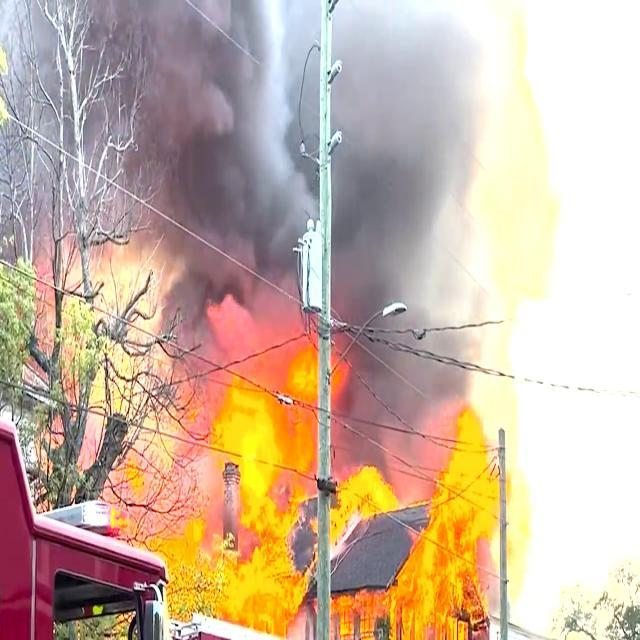Fire: (154, 348, 305, 627), (412, 417, 504, 640), (338, 459, 398, 536)
Smoke: (90, 18, 506, 325)
